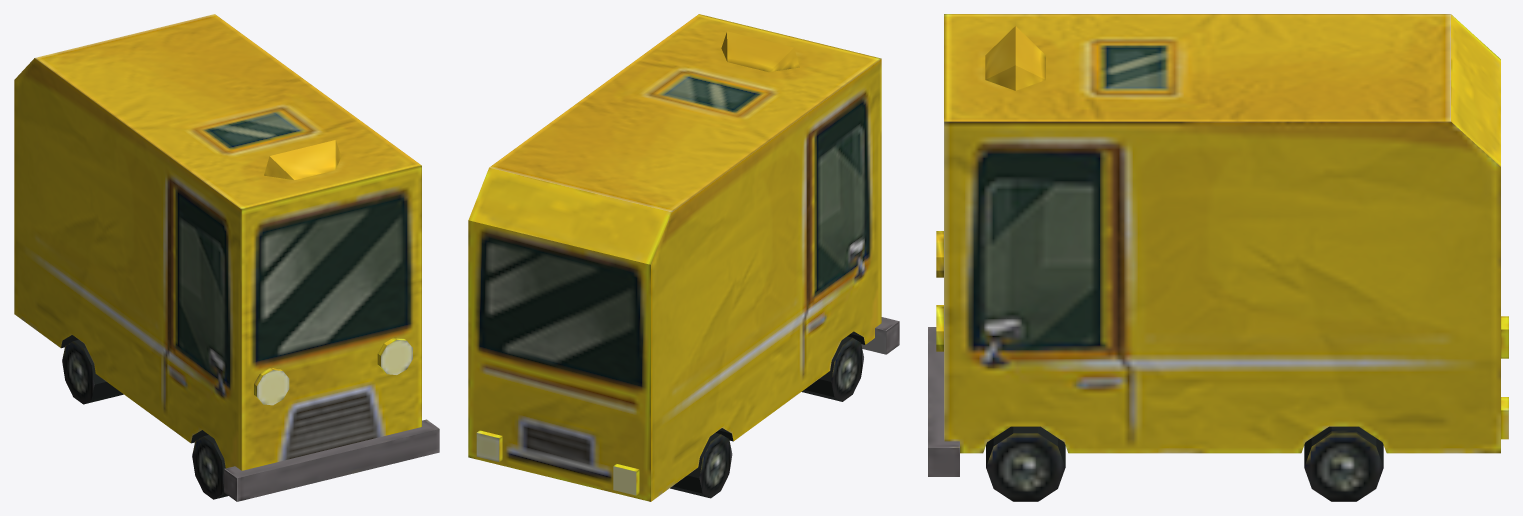
Rendered from Minibus_01.fbx.
3 views of the same model, side by side, from view 1: azimuth 30°, elevation 25°; view 2: azimuth 150°, elevation 25°; view 3: azimuth 270°, elevation 25° (orthographic). The views are drawn at different scales.
Parts seen in each view (by area): view 1: Minibus; view 2: Minibus; view 3: Minibus.
Boxes of the visible parts, x1=… form: Minibus: x1=14, y1=14, x2=439, y2=501; Minibus: x1=468, y1=14, x2=899, y2=501; Minibus: x1=928, y1=14, x2=1508, y2=501.
Size of the model in its own units: 180 by 279 by 365.
